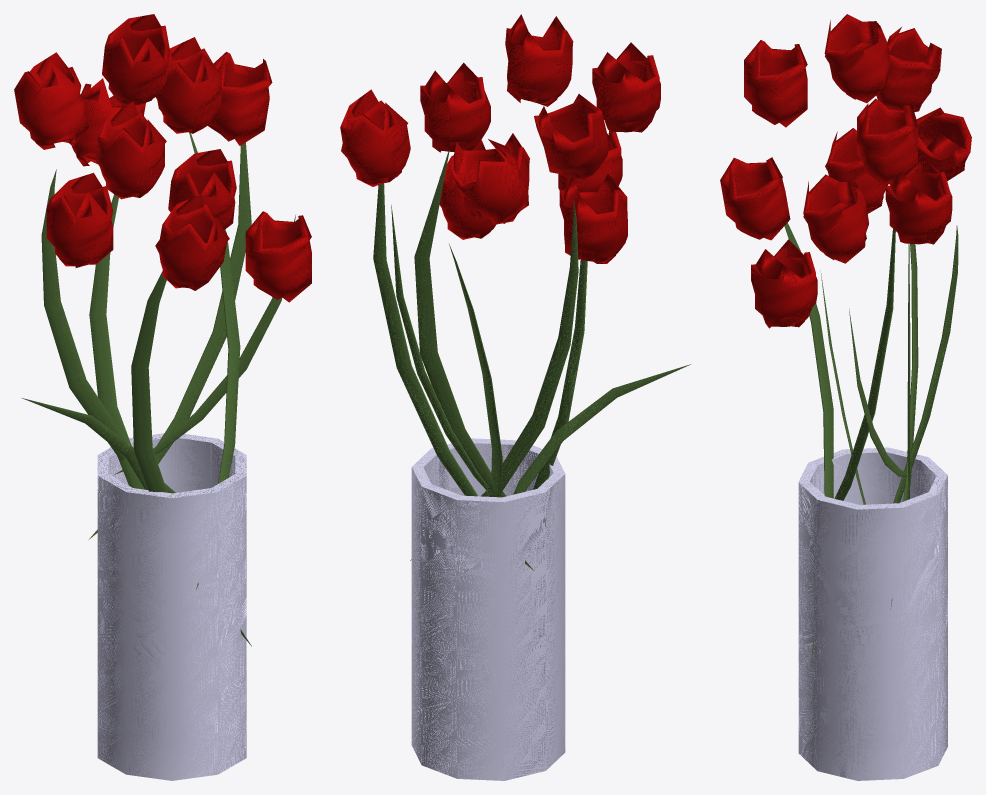
The model's file is flowers.obj.
3 renders of one model, left to right at view 1: azimuth 30°, elevation 25°; view 2: azimuth 150°, elevation 25°; view 3: azimuth 270°, elevation 25°, orthographic. The views are drawn at different scales.
Parts seen in each view (by area): view 1: Flowers_1, Flowers_3, Flowers_2; view 2: Flowers_1, Flowers_3, Flowers_2; view 3: Flowers_1, Flowers_3, Flowers_2.
Part boxes in pixels (bbox=[...]): Flowers_1: bbox=[97, 433, 246, 780]; Flowers_3: bbox=[14, 14, 311, 302]; Flowers_2: bbox=[22, 132, 295, 646]; Flowers_1: bbox=[411, 438, 565, 780]; Flowers_3: bbox=[340, 14, 660, 263]; Flowers_2: bbox=[373, 151, 691, 570]; Flowers_1: bbox=[798, 447, 947, 780]; Flowers_3: bbox=[720, 14, 971, 328]; Flowers_2: bbox=[784, 222, 958, 662].
Bounding box in the file's own units: 39.27 × 93.84 × 29.91.
